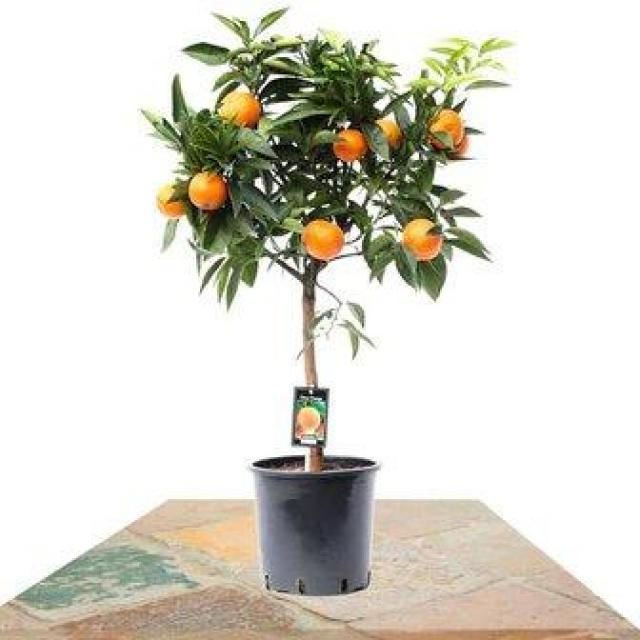Jeruk Sudah Matang: (186, 166, 230, 216), (214, 90, 264, 134), (400, 217, 446, 263), (303, 218, 345, 264), (426, 106, 466, 150), (330, 127, 370, 163), (371, 119, 406, 159), (154, 183, 184, 219)
